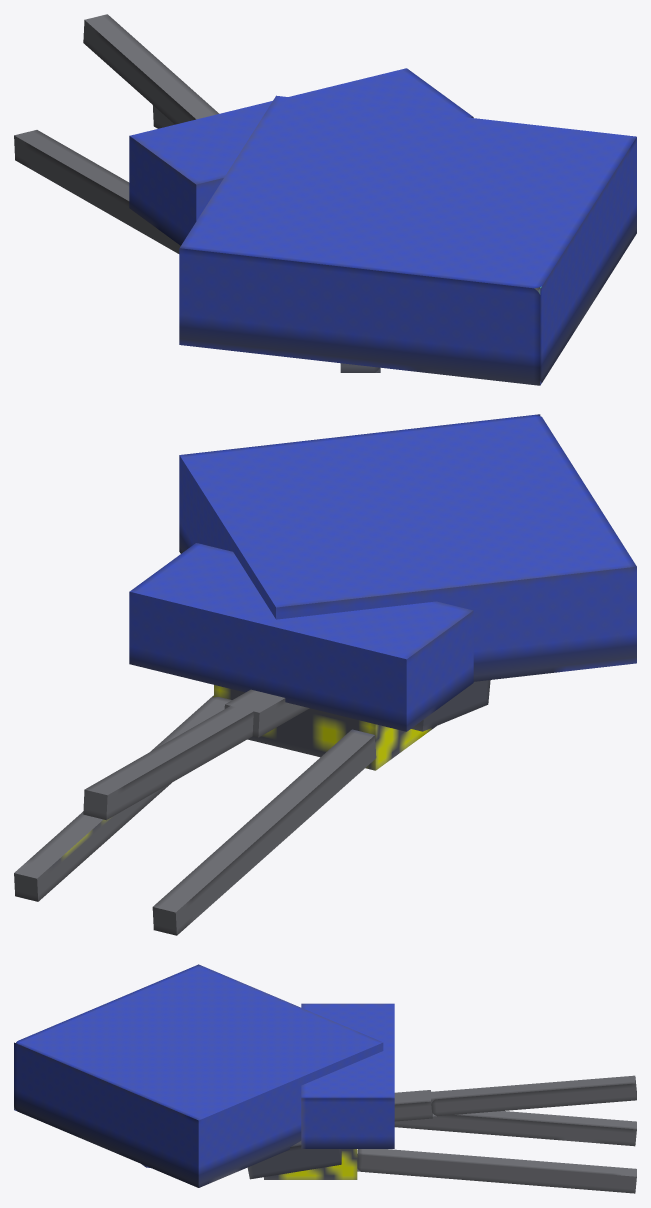
File: reefback.obj
3 renders of one model, top to bottom at view 1: azimuth 30°, elevation 25°; view 2: azimuth 150°, elevation 25°; view 3: azimuth 270°, elevation 25°, orthographic. The views are drawn at different scales.
Parts seen in each view (by area): view 1: cube; view 2: cube; view 3: cube.
Part boxes in pixels (x1,y1,x2,y2): cube: (14, 14, 636, 385); cube: (14, 414, 636, 935); cube: (14, 964, 636, 1193).
Size of the model in its own units: 2.47 by 0.9132 by 4.17.
